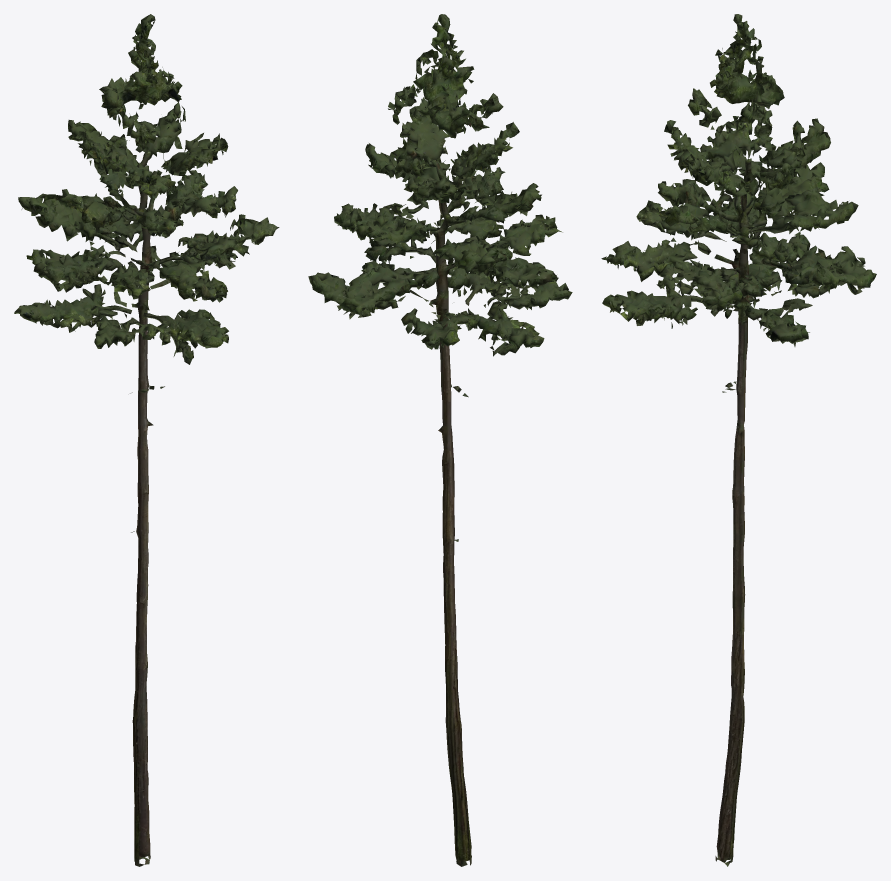
The model's file is lib_tp_thongnhua.near.glb.
3 views of the same model, side by side, from view 1: azimuth 30°, elevation 25°; view 2: azimuth 150°, elevation 25°; view 3: azimuth 270°, elevation 25° (orthographic).
Bounding box in the file's own units: 0.5708 × 1.98 × 0.5781.
1 material, 1 textured.
